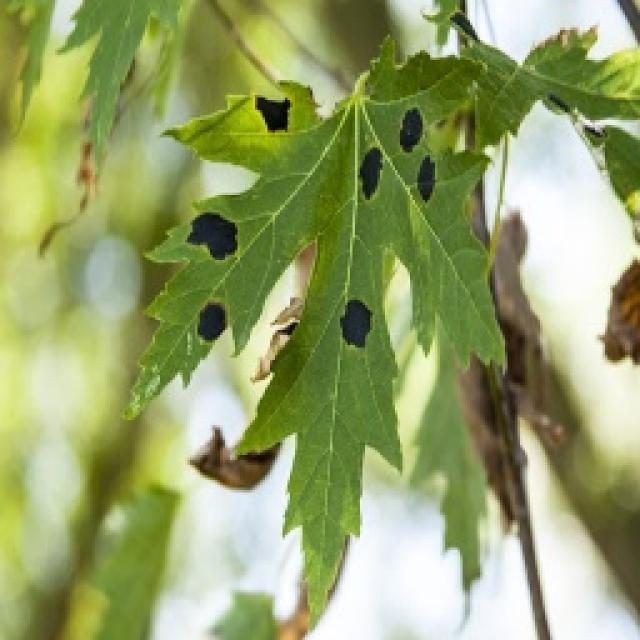Tar_Spot: (192, 45, 467, 378)
